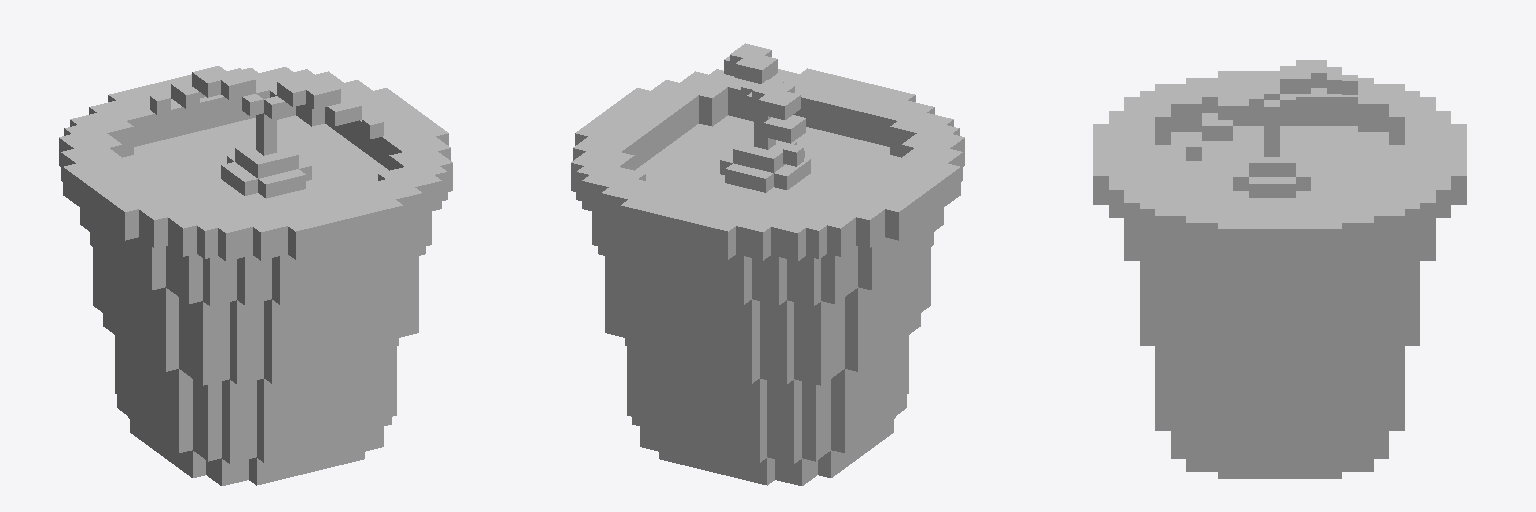
The model's file is plant.obj.
3 views of the same model, side by side, from view 1: azimuth 30°, elevation 25°; view 2: azimuth 150°, elevation 25°; view 3: azimuth 270°, elevation 25° (orthographic).
Parts seen in each view (by area): view 1: object 1; view 2: object 1; view 3: object 1.
Boxes of the visible parts, x1,y1,x2,y2 form: object 1: [59, 66, 452, 485]; object 1: [571, 43, 964, 485]; object 1: [1093, 60, 1466, 478].
Bounding box in the file's own units: 2.4 × 2.5 × 2.4.